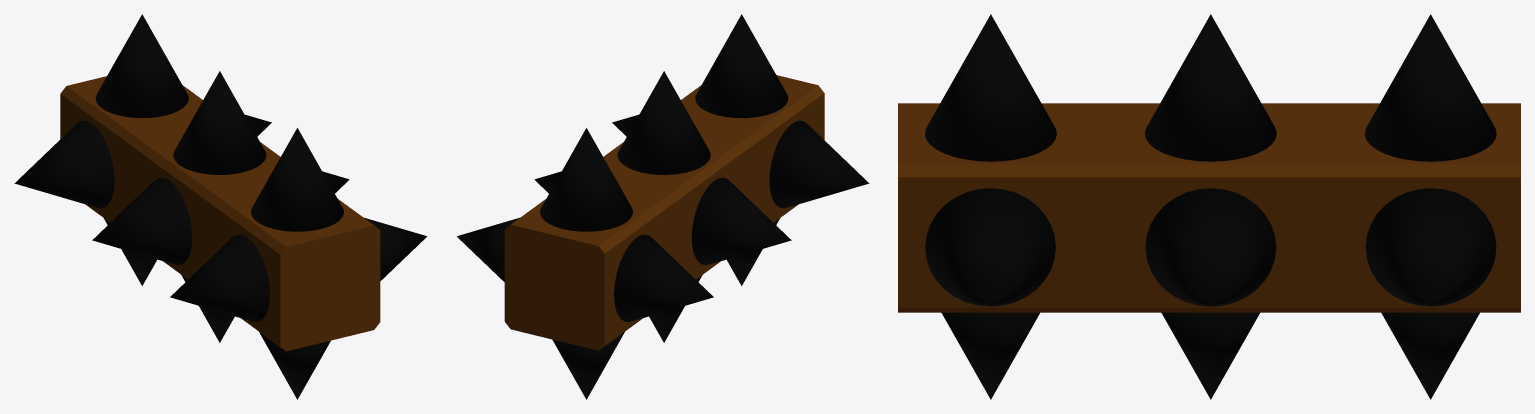
Rendered from Tomruk.fbx.
3 views of the same model, side by side, from view 1: azimuth 30°, elevation 25°; view 2: azimuth 150°, elevation 25°; view 3: azimuth 270°, elevation 25° (orthographic). The views are drawn at different scales.
Visible parts, largest first — view 1: Cone; view 2: Cone; view 3: Cone.
Part boxes in pixels (x1,y1,x2,y2): Cone: [14, 14, 426, 399]; Cone: [457, 14, 869, 399]; Cone: [898, 14, 1520, 399].
Size of the model in its own units: 103 by 104 by 152.
